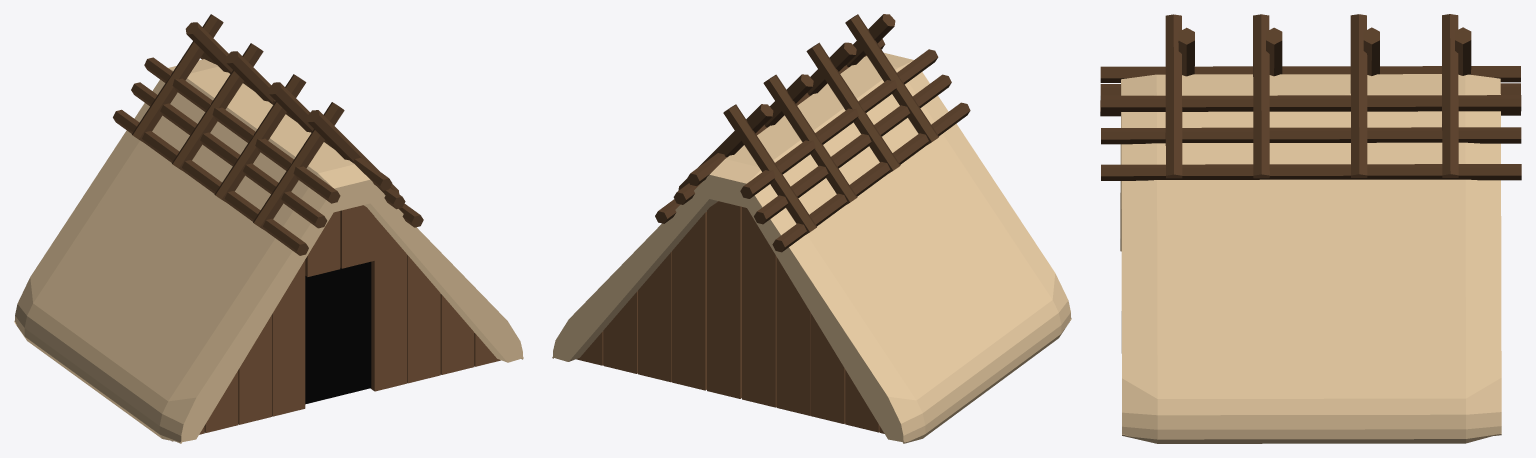
File: House#4.fbx
The picture shows the model from 3 angles, left to right: view 1: azimuth 30°, elevation 25°; view 2: azimuth 150°, elevation 25°; view 3: azimuth 270°, elevation 25°; orthographic projection. The views are drawn at different scales.
Visible parts, largest first — view 1: House#4; view 2: House#4; view 3: House#4.
Boxes of the visible parts, x1=… form: House#4: x1=14, y1=14, x2=523, y2=443; House#4: x1=552, y1=14, x2=1071, y2=443; House#4: x1=1100, y1=14, x2=1521, y2=443.
Size of the model in its own units: 1201 by 920 by 1073.
